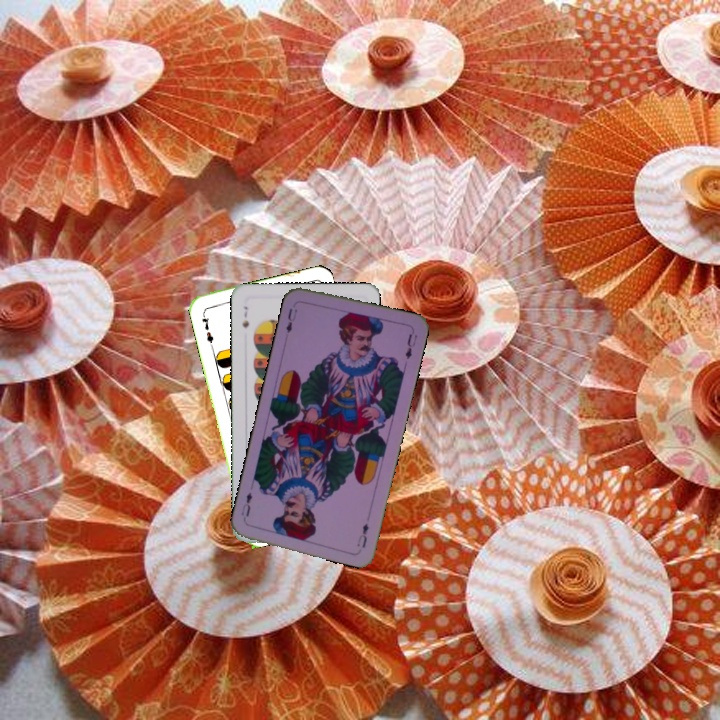E7: (198, 308, 216, 348)
EU: (353, 519, 372, 550), (282, 304, 300, 335)
S7: (238, 302, 251, 330)
